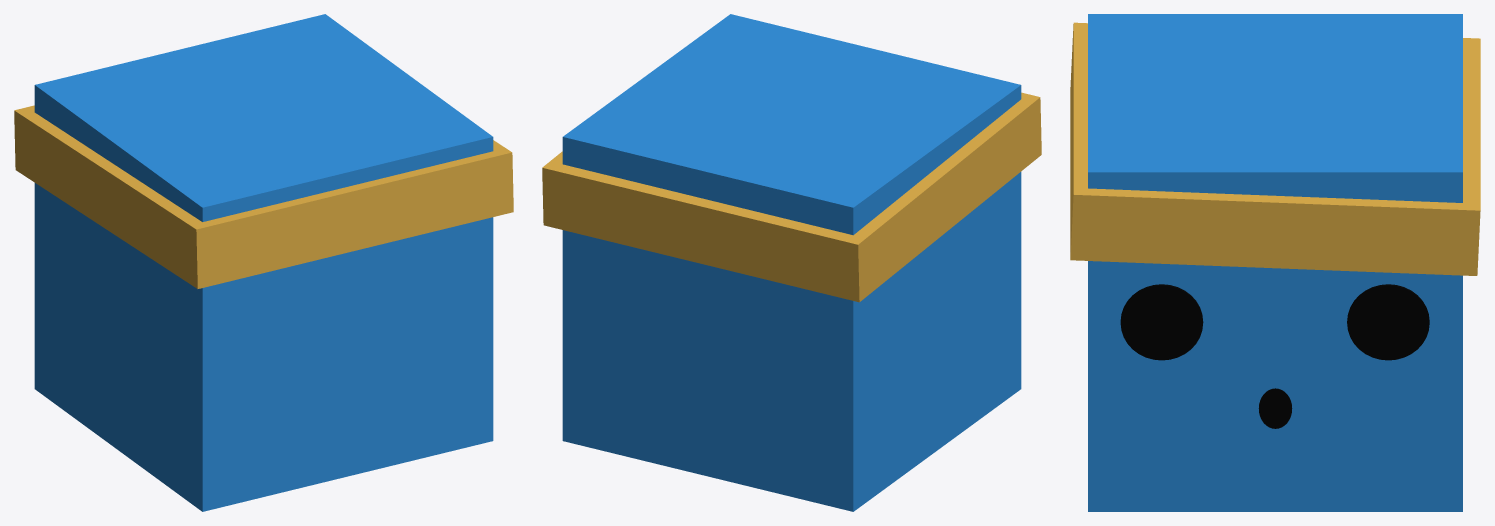
File: agent.fbx
3 renders of one model, left to right at view 1: azimuth 30°, elevation 25°; view 2: azimuth 150°, elevation 25°; view 3: azimuth 270°, elevation 25°, orthographic. The views are drawn at different scales.
Parts seen in each view (by area): view 1: agent; view 2: agent; view 3: agent.
Part boxes in pixels (x1,y1,x2,y2): agent: (14,14,513,511); agent: (542,14,1041,511); agent: (1070,14,1480,511).
Size of the model in its own units: 217 by 200 by 219.
